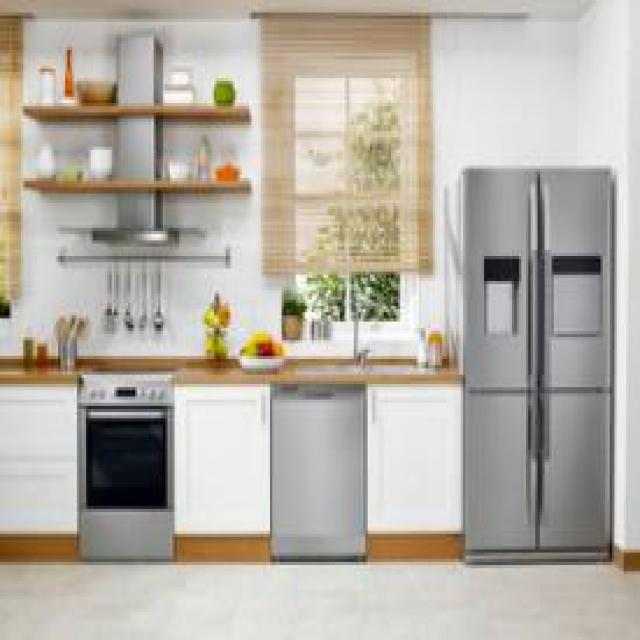dishwasher: (270, 381, 363, 559)
